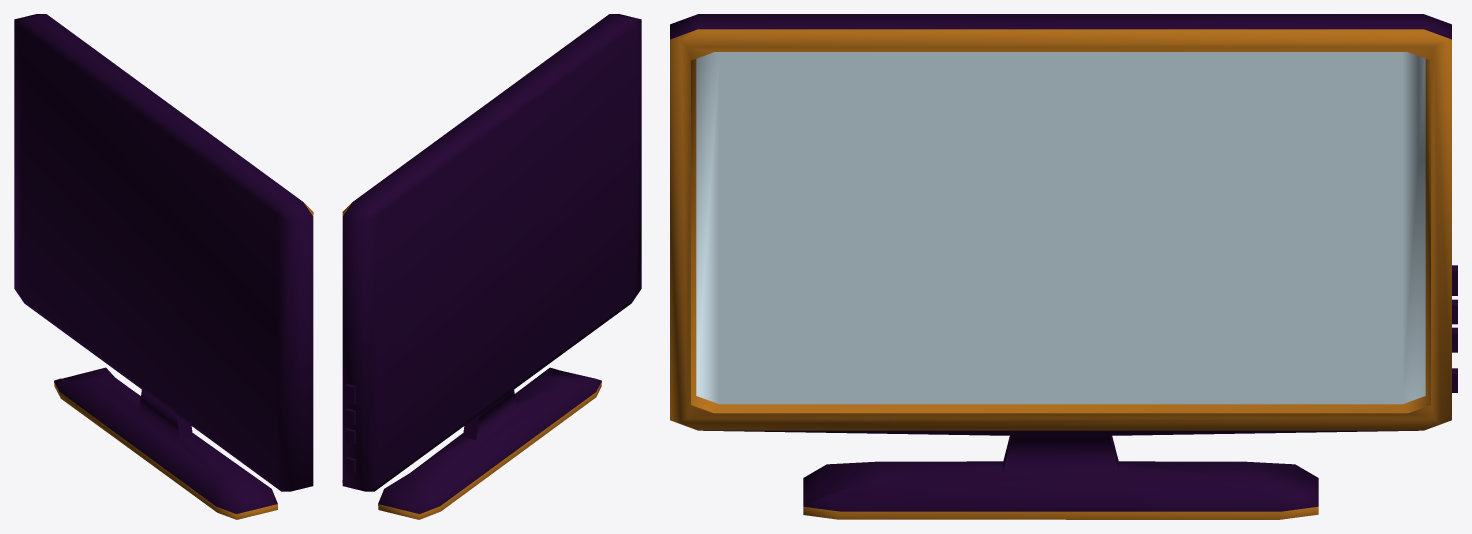
File: TV_Standing.fbx
3 renders of one model, left to right at view 1: azimuth 30°, elevation 25°; view 2: azimuth 150°, elevation 25°; view 3: azimuth 270°, elevation 25°, orthographic. The views are drawn at different scales.
Visible parts, largest first — view 1: TV_Standing; view 2: TV_Standing; view 3: TV_Standing.
Boxes of the visible parts, box(x1,y1,x2,y2) form: TV_Standing: box(14, 14, 313, 519); TV_Standing: box(342, 14, 641, 519); TV_Standing: box(670, 14, 1457, 519).
Bounding box in the file's own units: 75 × 432 × 646.
